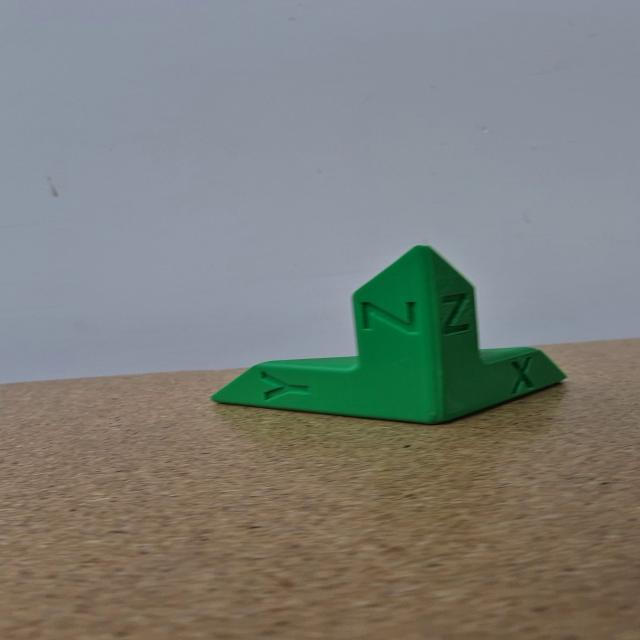objects: (207, 239, 575, 430)
